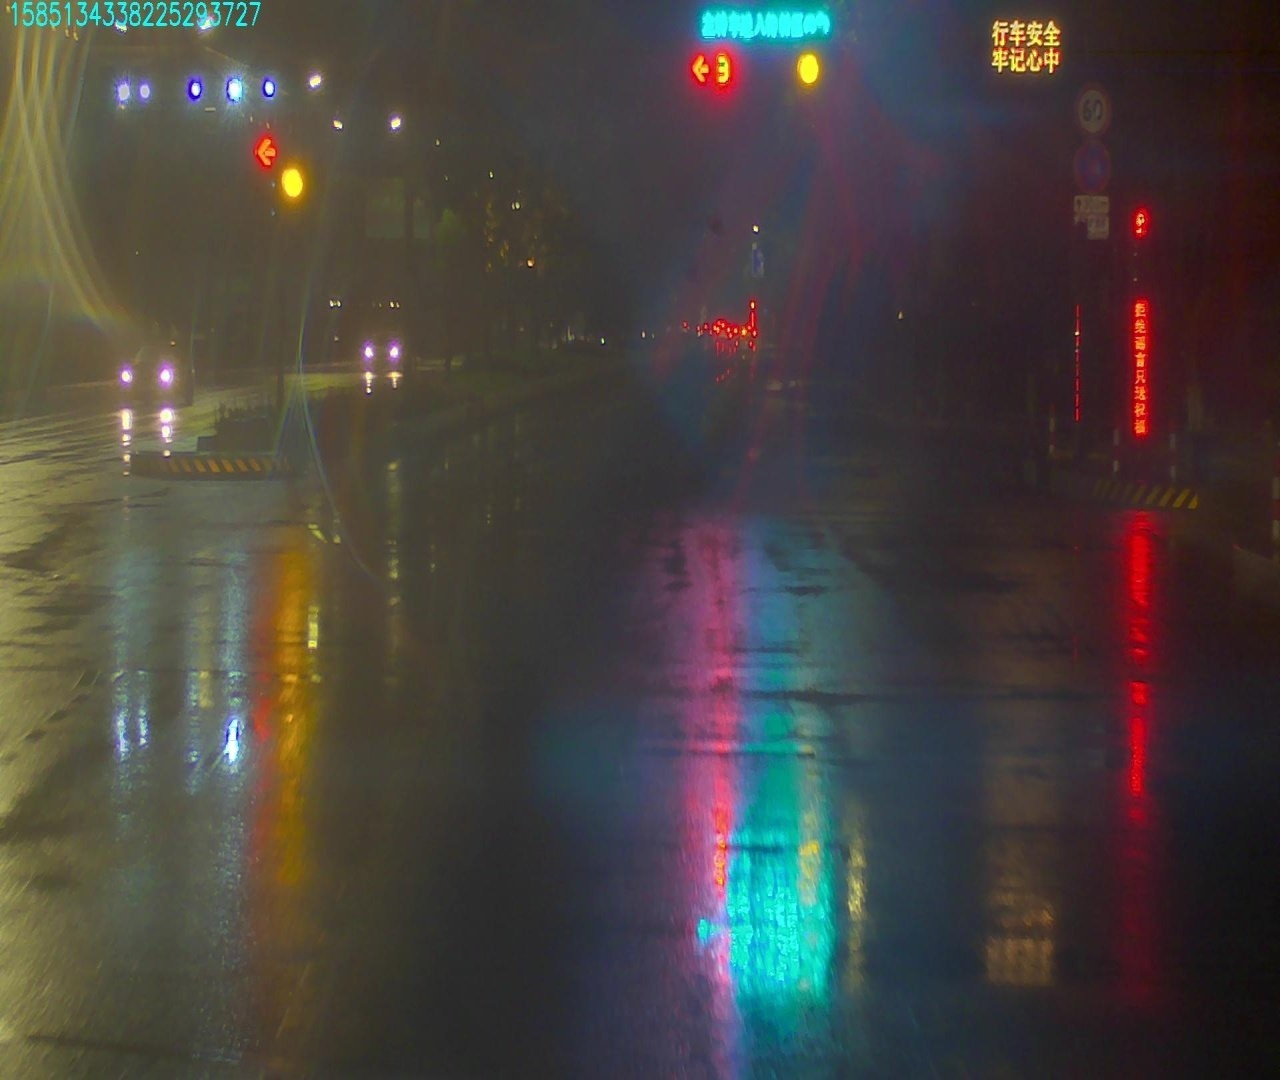red: (691, 45, 737, 89)
yellow: (790, 51, 832, 97)
